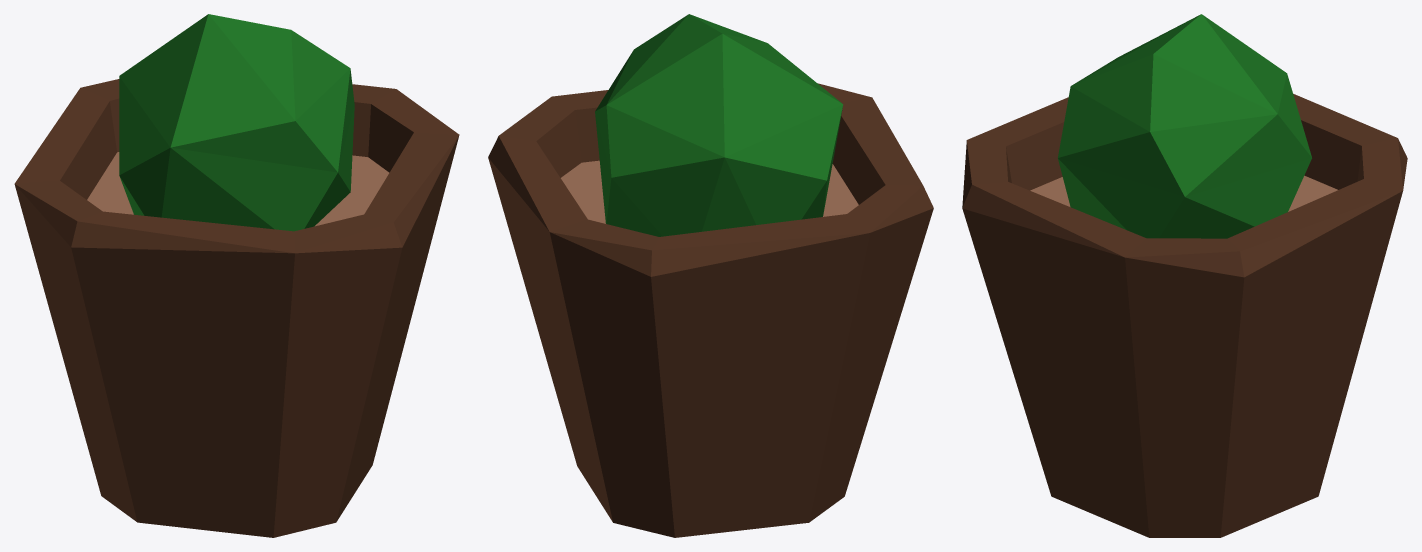
Rendered from mini plantenpot.fbx.
The picture shows the model from 3 angles, left to right: view 1: azimuth 30°, elevation 25°; view 2: azimuth 150°, elevation 25°; view 3: azimuth 270°, elevation 25°; orthographic projection.
Parts seen in each view (by area): view 1: Cube, Icosphere; view 2: Cube, Icosphere; view 3: Cube, Icosphere.
Boxes of the visible parts, x1,y1,x2,y2 form: Cube: (14,79,459,537); Icosphere: (119,14,354,231); Cube: (488,83,933,537); Icosphere: (595,14,843,236); Cube: (962,94,1407,537); Icosphere: (1058,14,1311,238).
Size of the model in its own units: 198 by 224 by 198.
